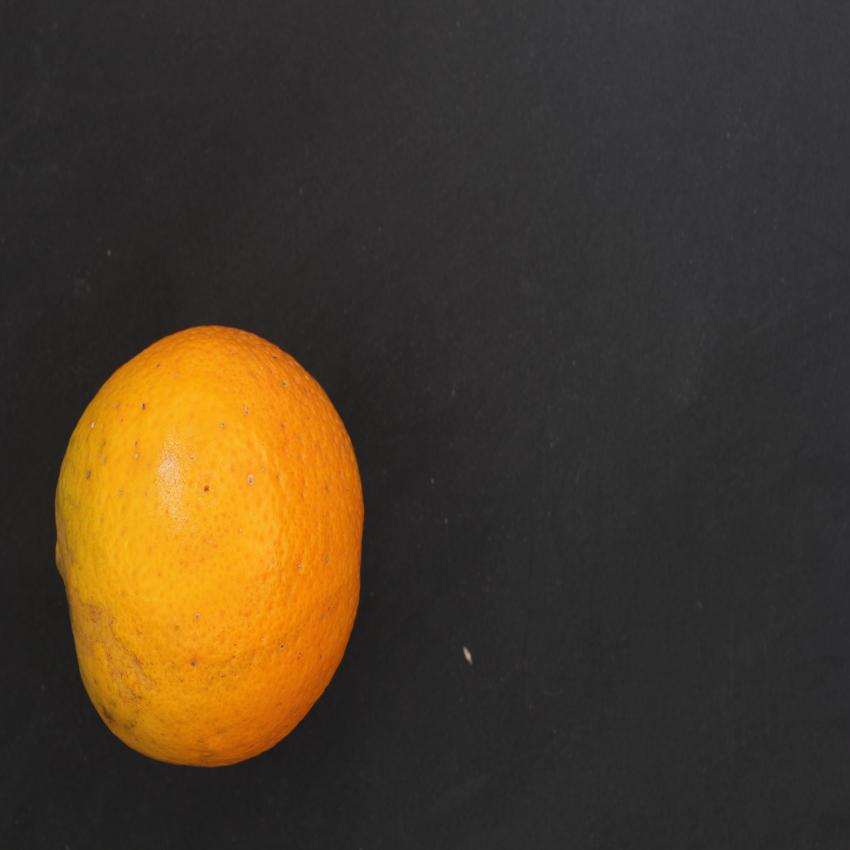Mal estado: (45, 308, 380, 786)
